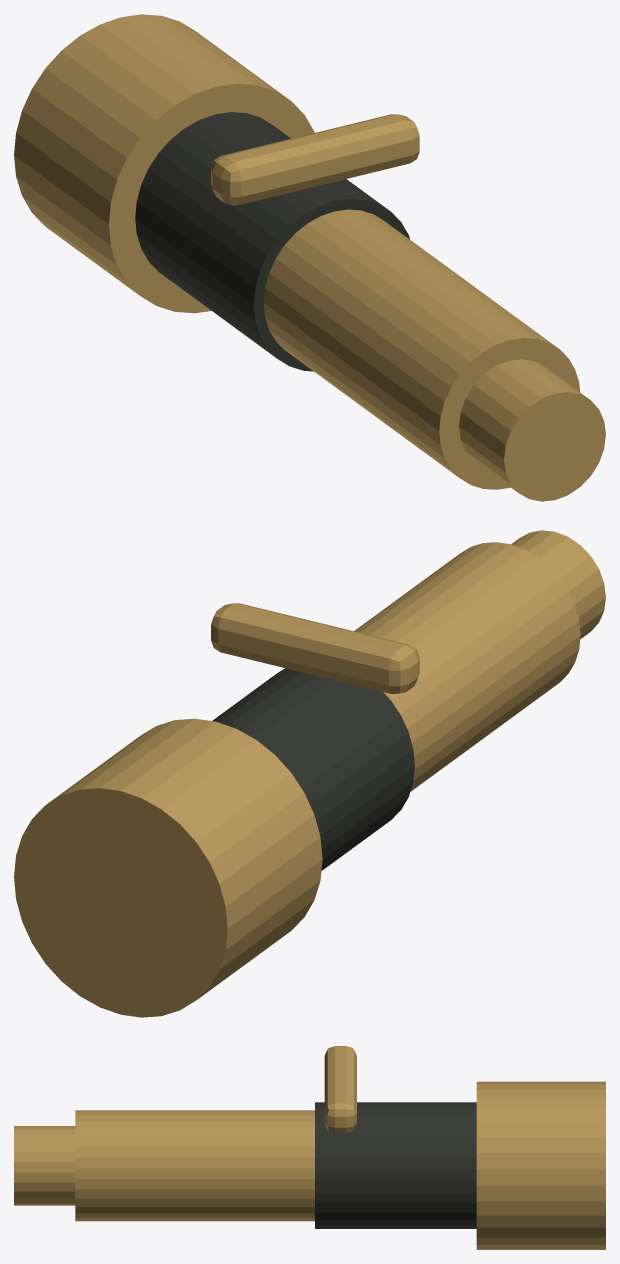
The model's file is fire-nozzle.glb.
The picture shows the model from 3 angles, top to bottom: view 1: azimuth 30°, elevation 25°; view 2: azimuth 150°, elevation 25°; view 3: azimuth 270°, elevation 25°; orthographic projection. The views are drawn at different scales.
Parts seen in each view (by area): view 1: hose coupling, nozzle hand grip; view 2: hose coupling, nozzle hand grip; view 3: hose coupling, nozzle hand grip.
Boxes of the visible parts, <box> form: hose coupling: <box>14,14,605,501</box>; nozzle hand grip: <box>135,112,409,371</box>; hose coupling: <box>14,530,605,1017</box>; nozzle hand grip: <box>212,668,414,870</box>; hose coupling: <box>14,1046,605,1249</box>; nozzle hand grip: <box>315,1102,476,1228</box>.
Bounding box in the file's own units: 0.13 × 0.1425 × 0.4575.
